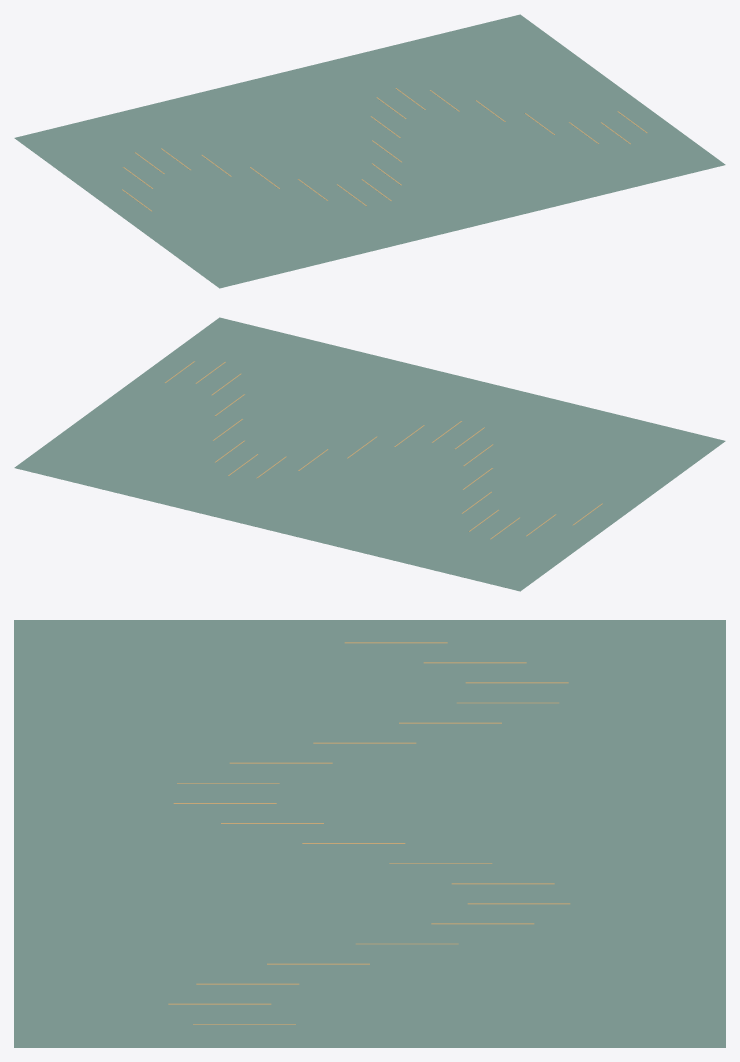
File: 253_L118_L16_LayerReference.glb
3 renders of one model, top to bottom at view 1: azimuth 30°, elevation 25°; view 2: azimuth 150°, elevation 25°; view 3: azimuth 270°, elevation 25°, orthographic. The views are drawn at different scales.
Parts seen in each view (by area): view 1: 0000__PSMAT__dielectric; view 2: 0000__PSMAT__dielectric; view 3: 0000__PSMAT__dielectric.
Boxes of the visible parts, x1,y1,x2,y2 form: 0000__PSMAT__dielectric: [14, 14, 725, 288]; 0000__PSMAT__dielectric: [14, 317, 725, 591]; 0000__PSMAT__dielectric: [14, 620, 725, 1047].
Bounding box in the file's own units: 0.472 × 0.000489 × 0.332.
